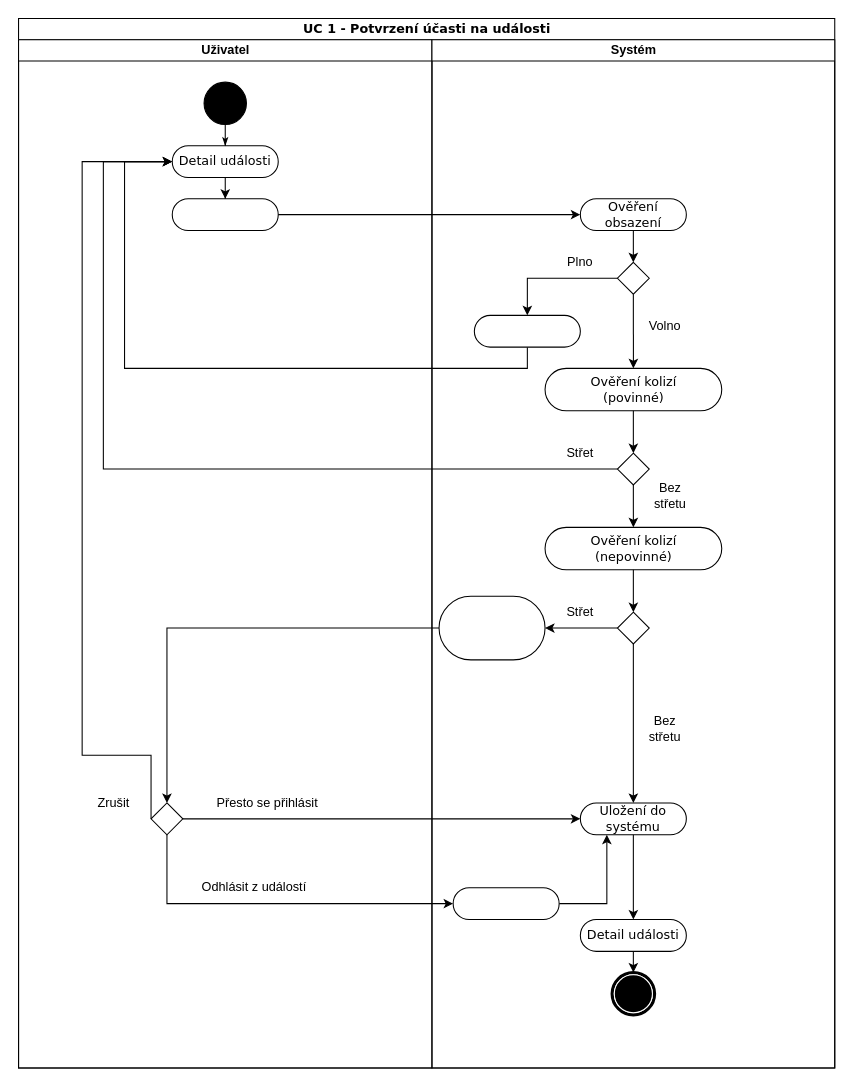
The diagram is 853 pixels wide and 1087 high, and some of its shapes have lost their labels. The shapes that lost their labels are listed below. From the top down, each one's centre as x and y in pixels, then its label:
At [224,214]: "Přihlásit".
At [526,330]: "Chybová zpráva".
At [491,627]: "Seznam kryjících se událostí".
At [505,903]: "Odhlášení z událostí".
